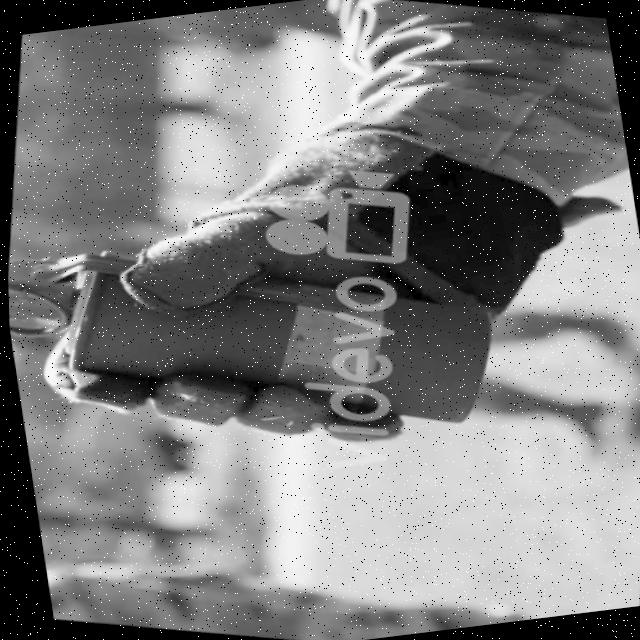grenade: (4, 188, 508, 486)
